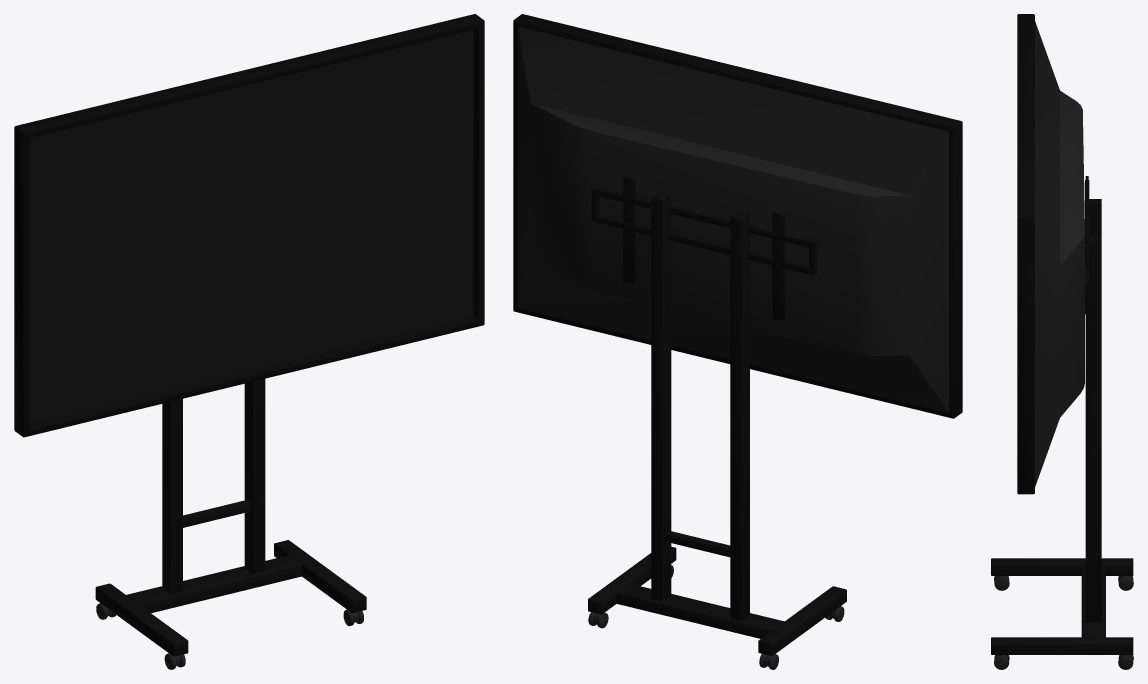
File: Display_A.fbx
3 renders of one model, left to right at view 1: azimuth 30°, elevation 25°; view 2: azimuth 150°, elevation 25°; view 3: azimuth 270°, elevation 25°, orthographic. The views are drawn at different scales.
Visible parts, largest first — view 1: Display_A; view 2: Display_A; view 3: Display_A.
Part boxes in pixels (box(x1,y1,x2,y2)): Display_A: box(14, 14, 484, 669); Display_A: box(513, 14, 962, 669); Display_A: box(991, 14, 1133, 669).
Bounding box in the file's own units: 2.72 × 3.17 × 0.8033.
